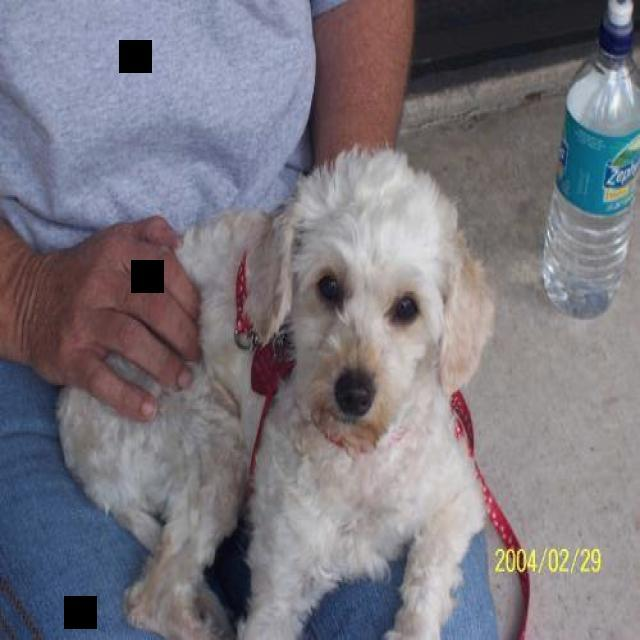adult_dog: (53, 134, 502, 640)
